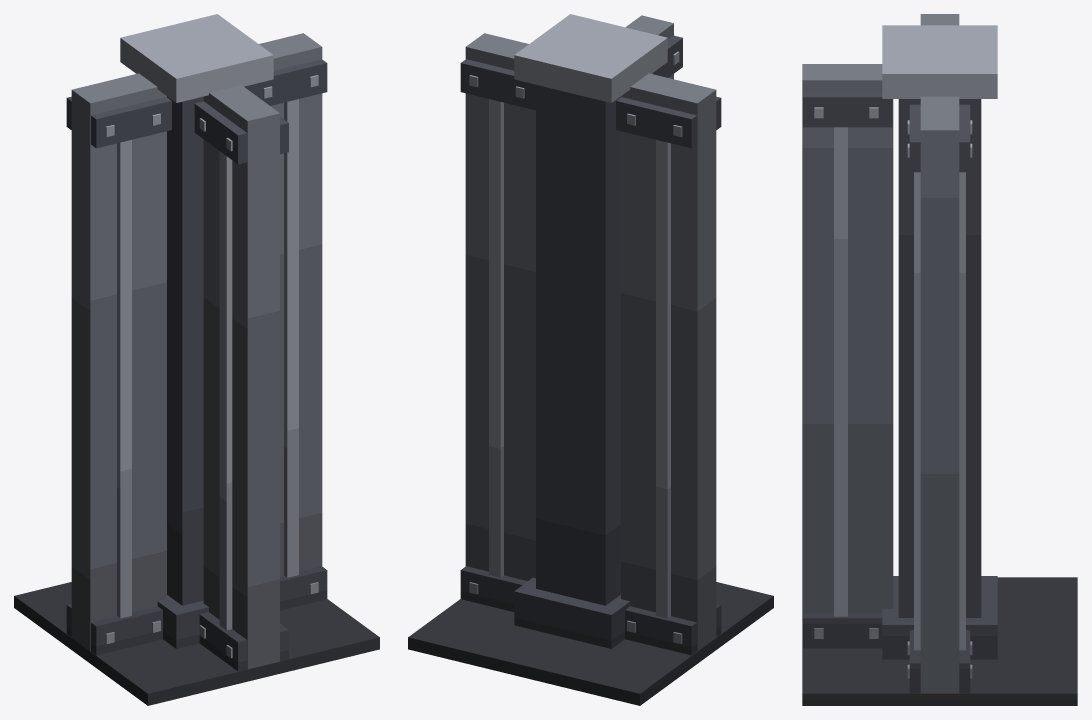
The model's file is model_45_iron_tee.glb.
The picture shows the model from 3 angles, left to right: view 1: azimuth 30°, elevation 25°; view 2: azimuth 150°, elevation 25°; view 3: azimuth 270°, elevation 25°; orthographic projection. The views are drawn at different scales.
Bounding box in the file's own units: 1 × 2.4 × 1.
1 material, 1 textured.
